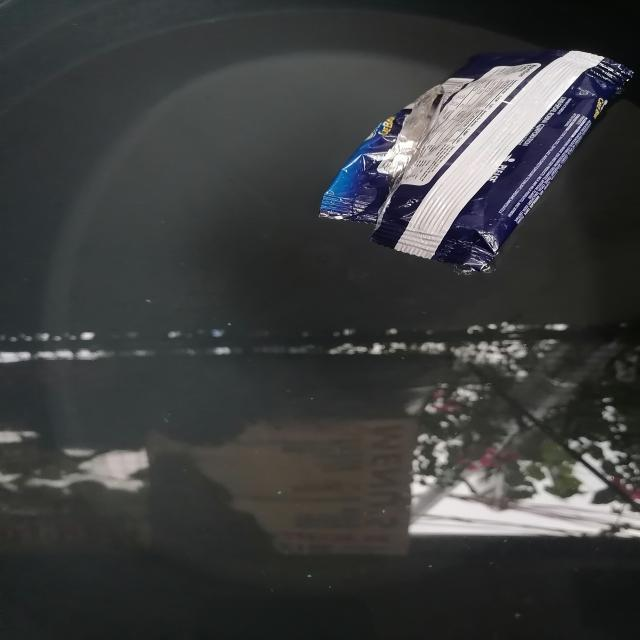Plastic Wrapper: (320, 50, 633, 271)
